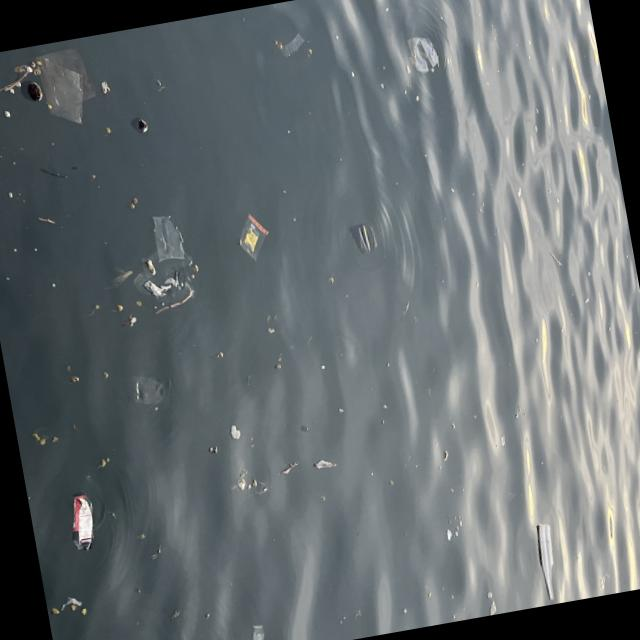foam: (65, 490, 99, 553)
